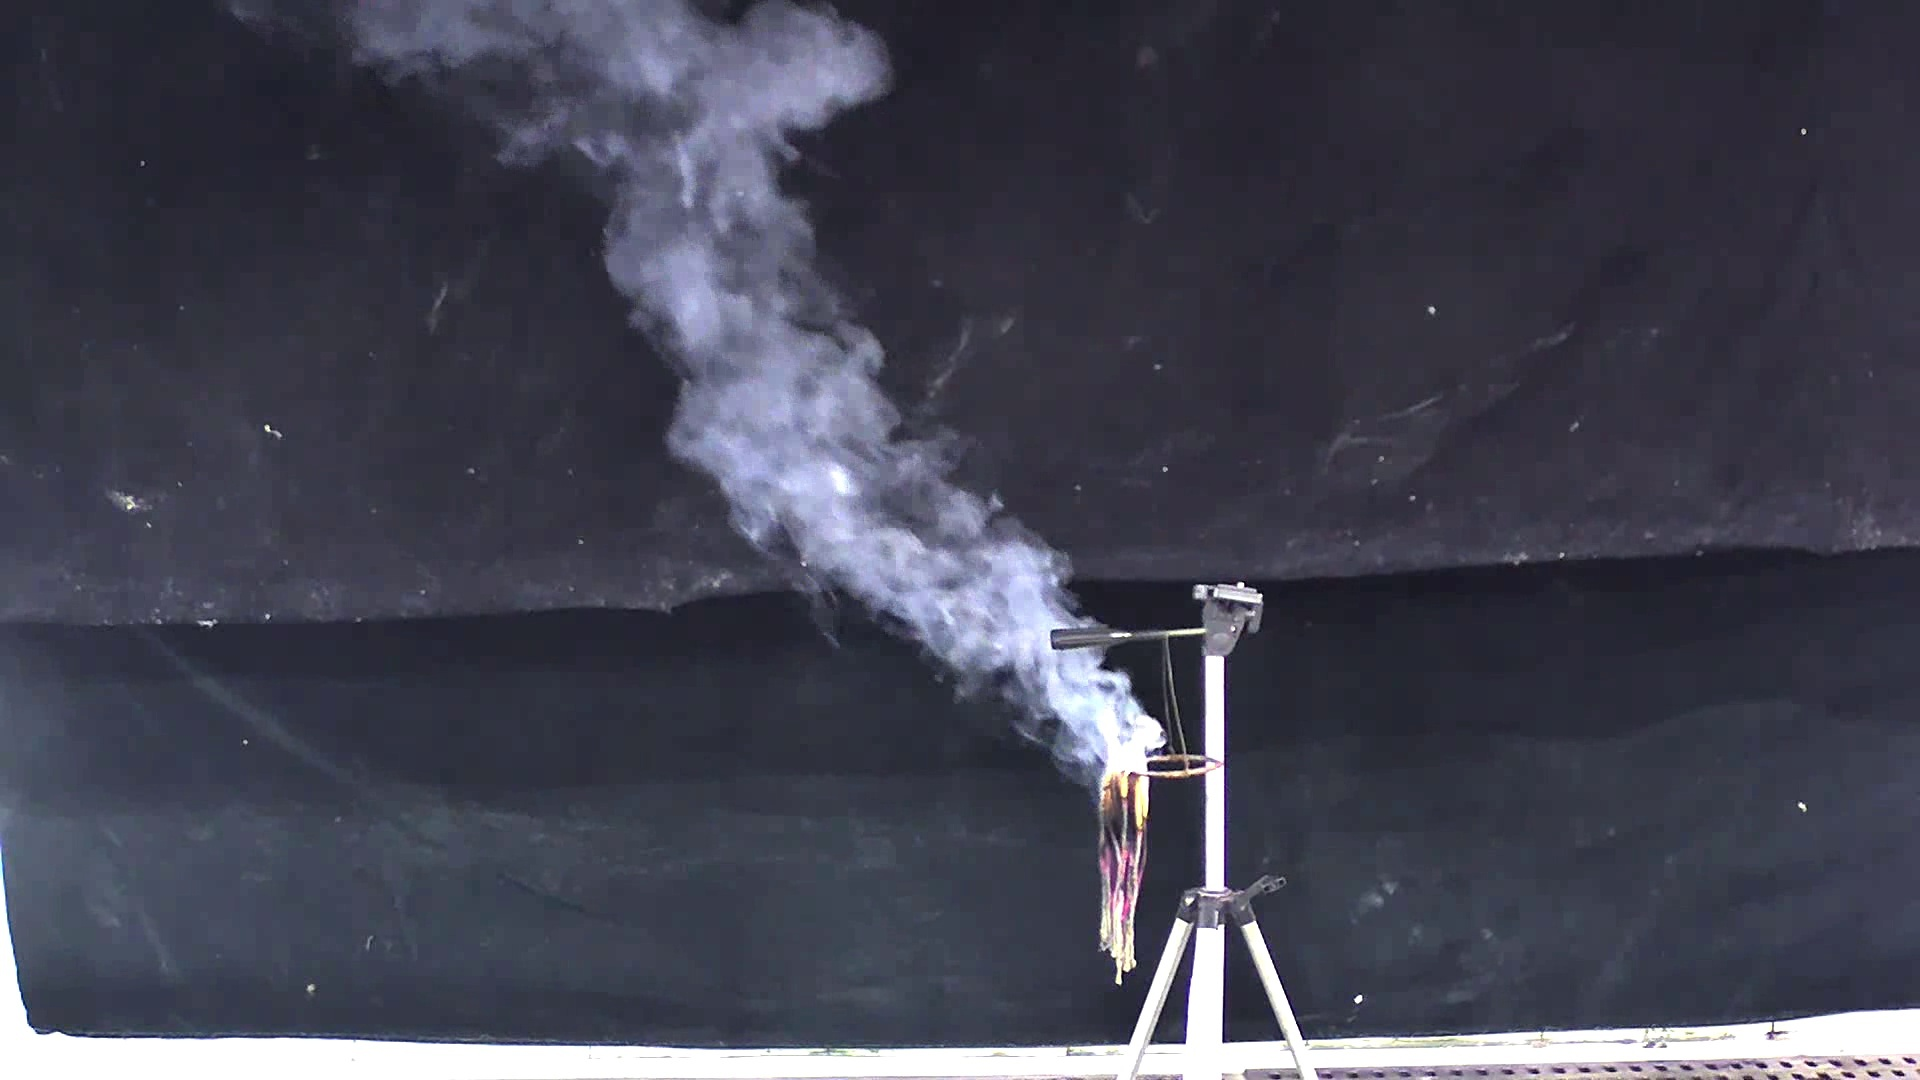smoke: (463, 1, 1175, 807)
